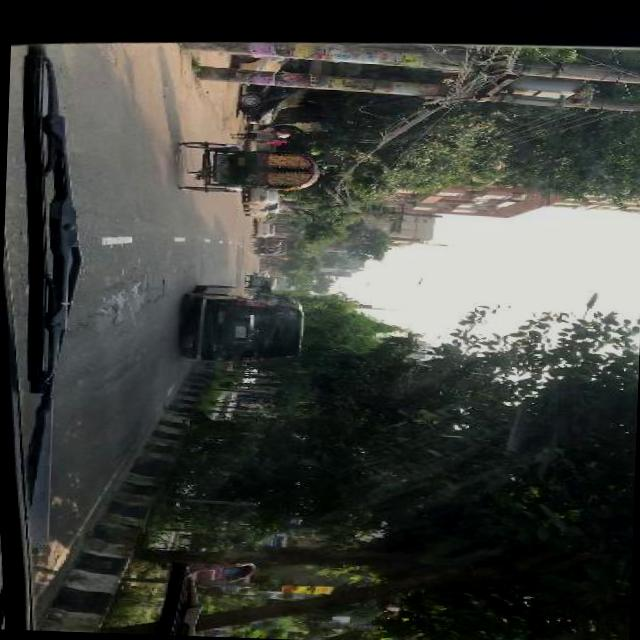car: (226, 55, 310, 126), (243, 188, 280, 208), (250, 202, 282, 218), (257, 220, 277, 234)
motorcycle: (180, 141, 320, 195), (186, 560, 256, 590), (247, 274, 275, 290), (253, 234, 280, 248), (252, 246, 276, 253)
truck: (182, 284, 307, 364)
